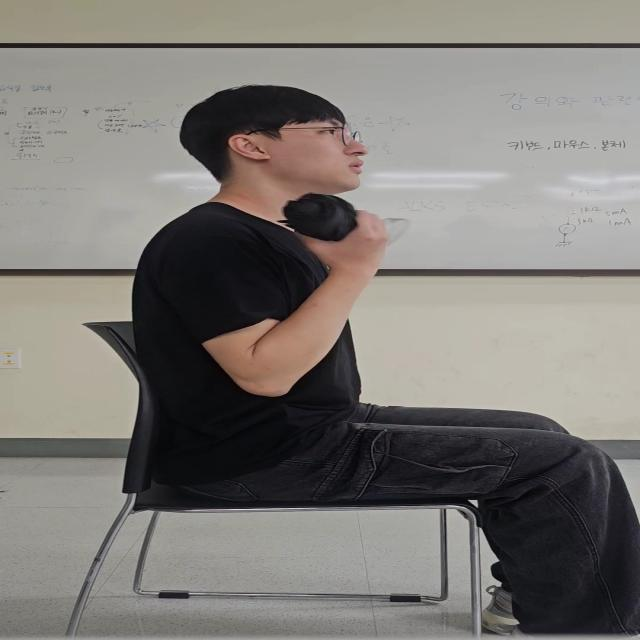curl: (146, 237, 359, 396)
